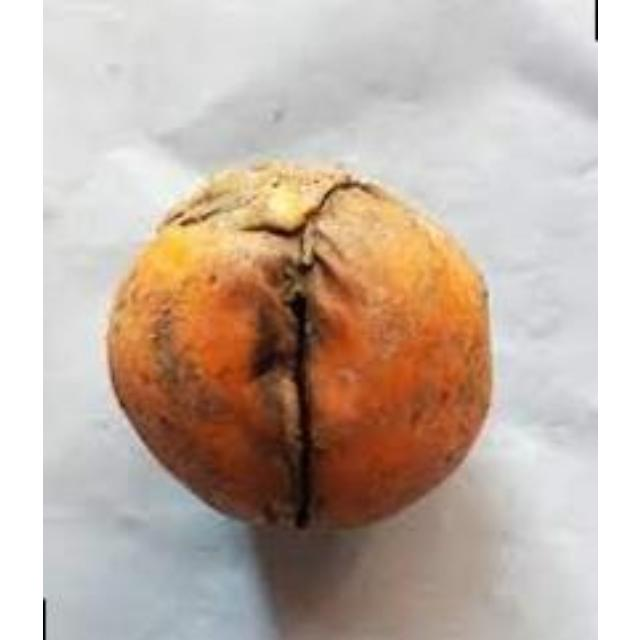damaged: (106, 157, 493, 536)
